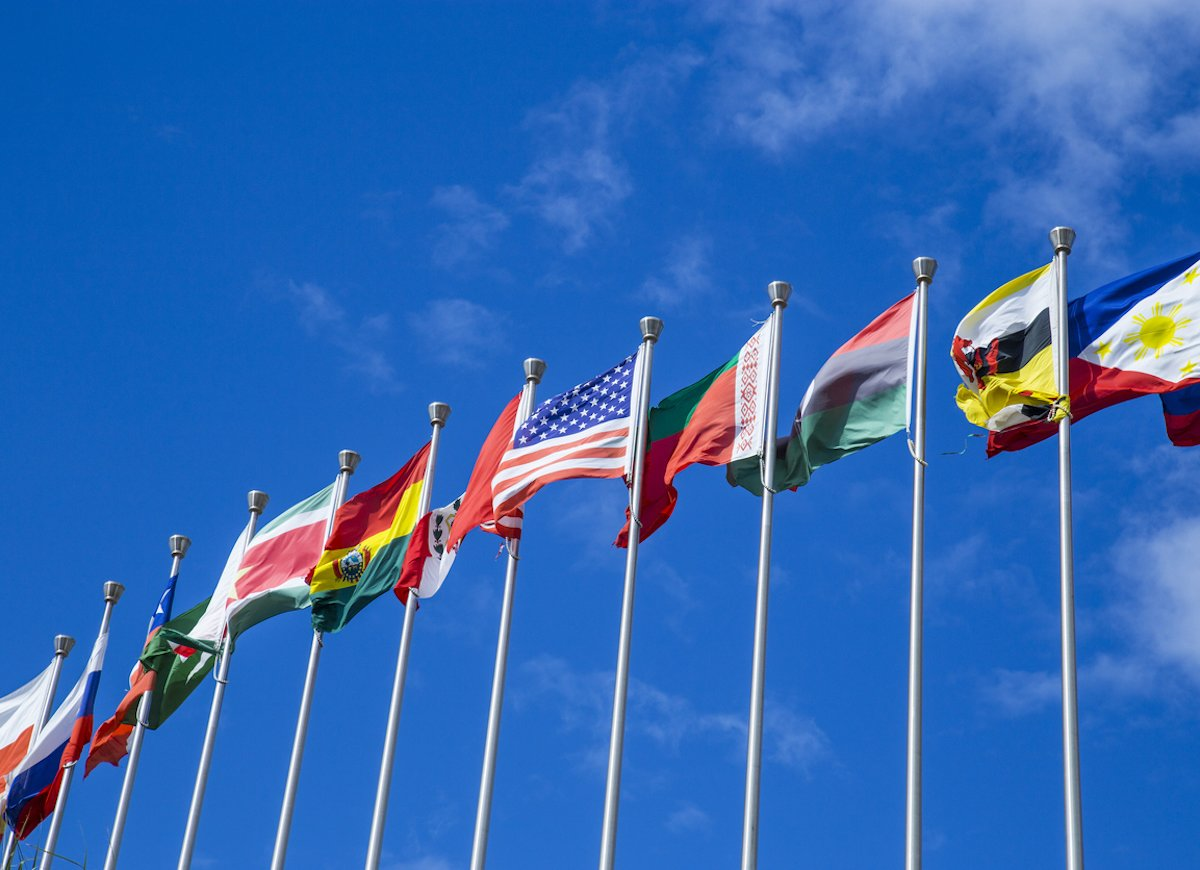America flag: (491, 354, 643, 527)
